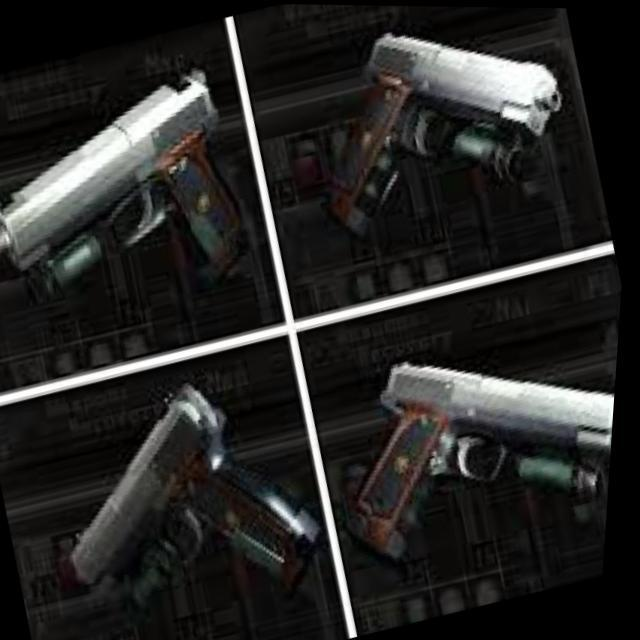weapon: (0, 27, 285, 360), (25, 350, 352, 640), (306, 301, 624, 574), (283, 3, 590, 245)
